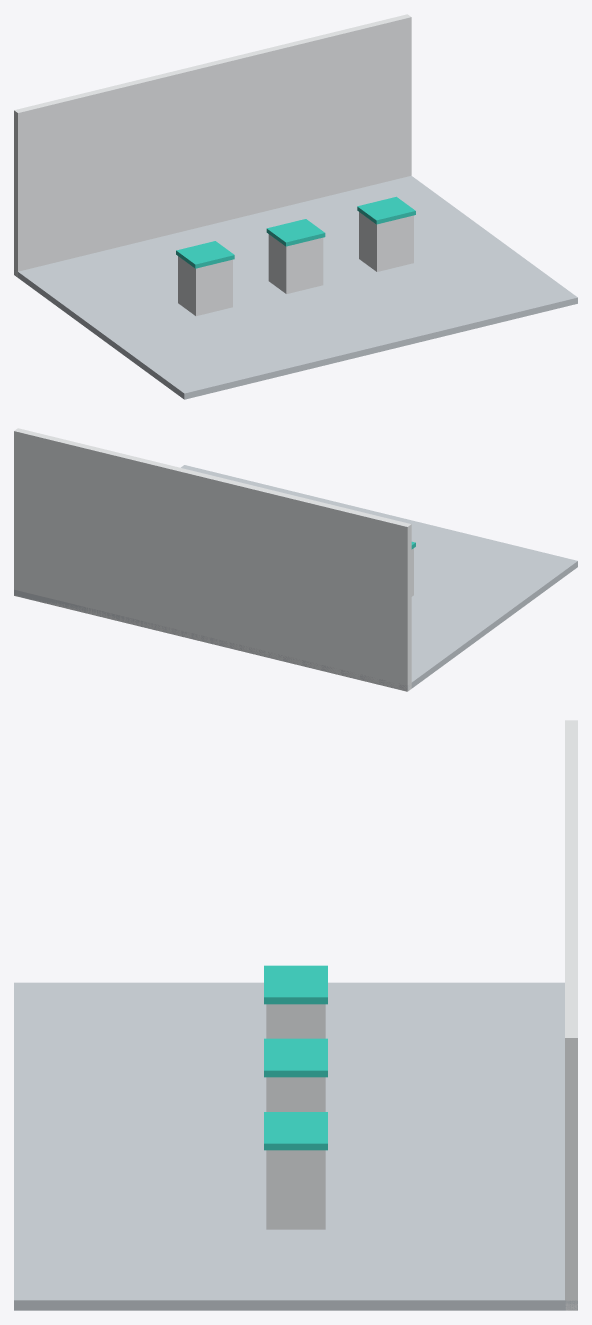
3 views of the same model, one above another, from view 1: azimuth 30°, elevation 25°; view 2: azimuth 150°, elevation 25°; view 3: azimuth 270°, elevation 25° (orthographic). The views are drawn at different scales.
Visible parts, largest first — view 1: Exhibition Booth Concept; view 2: Exhibition Booth Concept; view 3: Exhibition Booth Concept.
Part boxes in pixels (bbox=[...]): Exhibition Booth Concept: bbox=[14, 14, 577, 399]; Exhibition Booth Concept: bbox=[14, 428, 577, 691]; Exhibition Booth Concept: bbox=[14, 720, 577, 1310].
Bounding box in the file's own units: 8 × 3.2 × 6.
